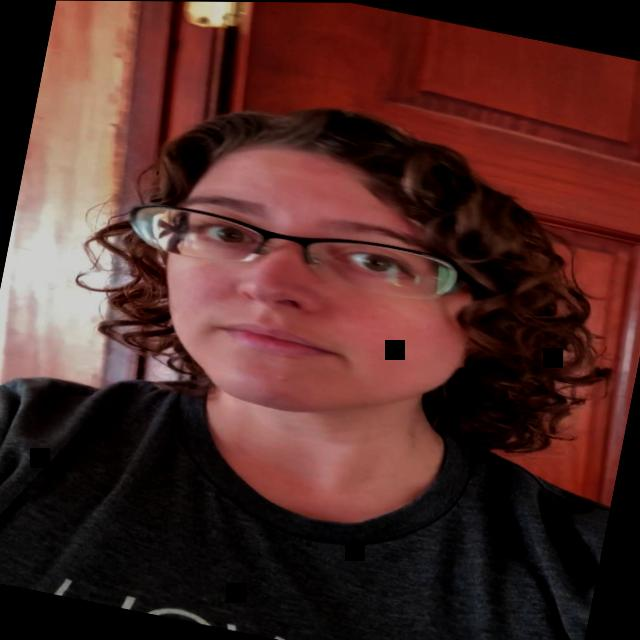NO-Mask: (141, 132, 528, 449)
